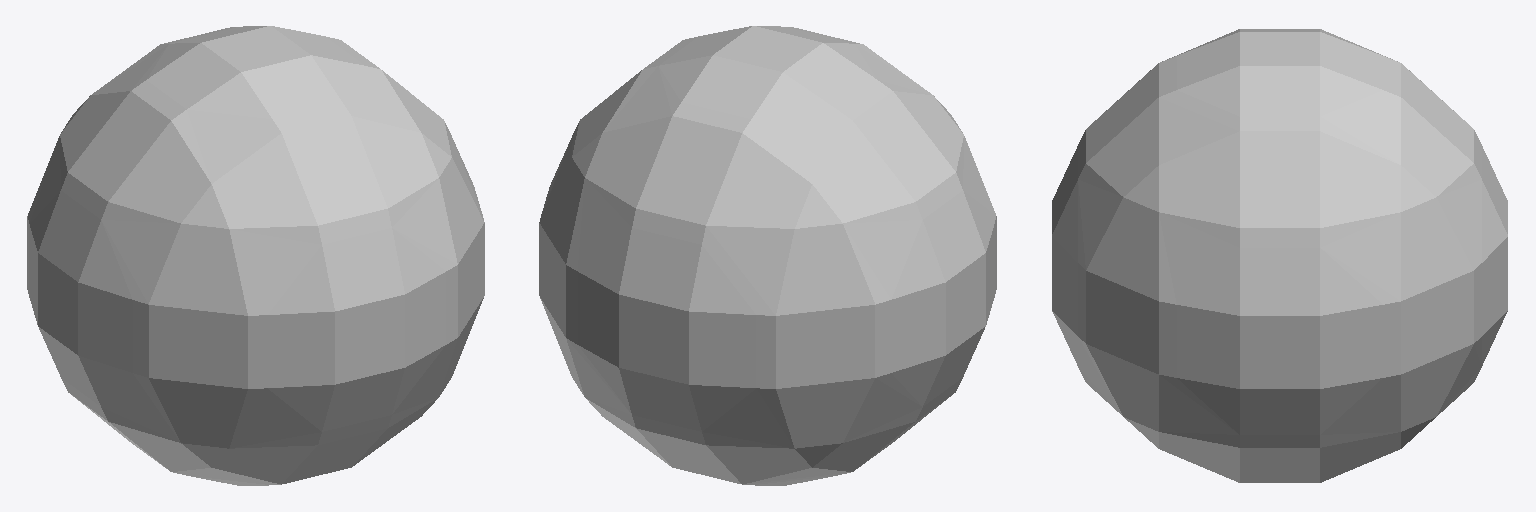
Rendered from bullet.obj.
3 views of the same model, side by side, from view 1: azimuth 30°, elevation 25°; view 2: azimuth 150°, elevation 25°; view 3: azimuth 270°, elevation 25° (orthographic).
Size of the model in its own units: 2.26 by 2.26 by 2.26.